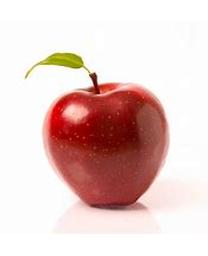apple: (41, 72, 170, 207)
